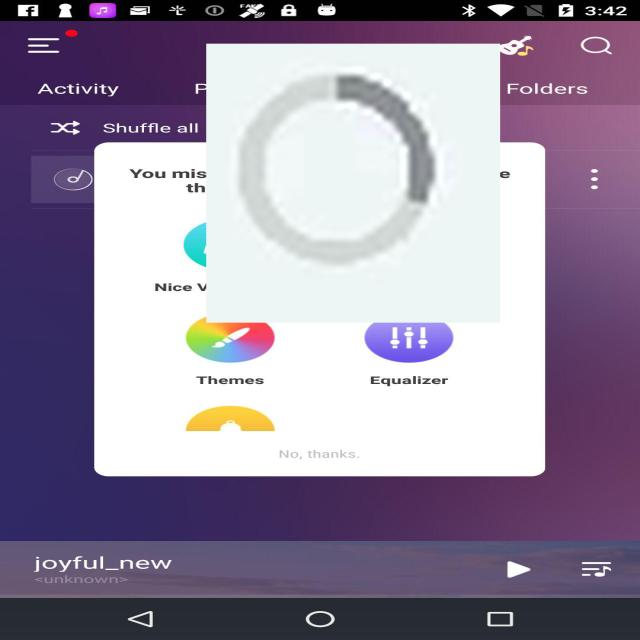misdirection: (206, 44, 500, 322)
